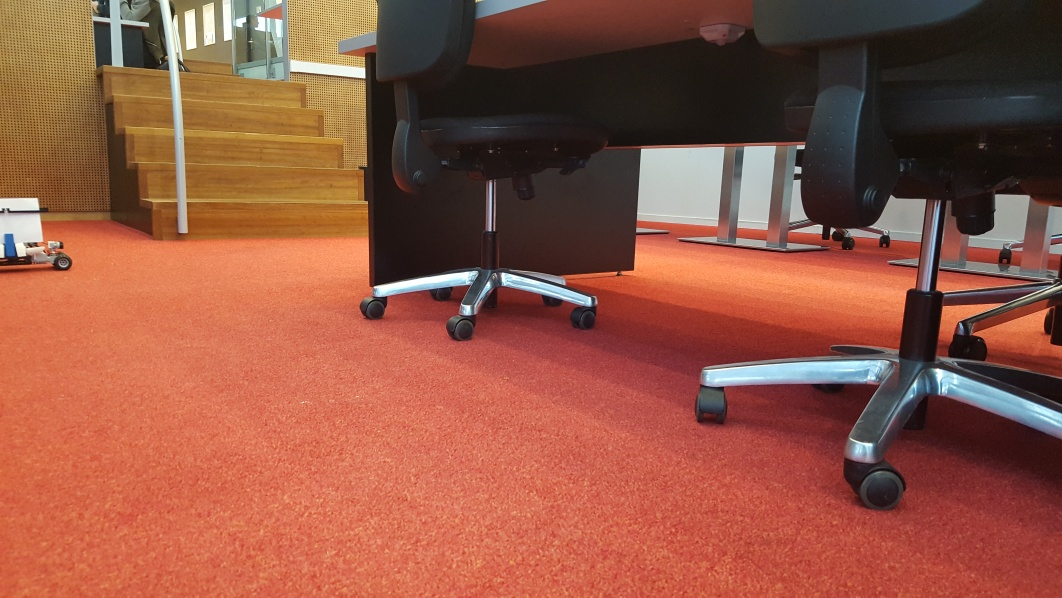car: (4, 198, 72, 275)
